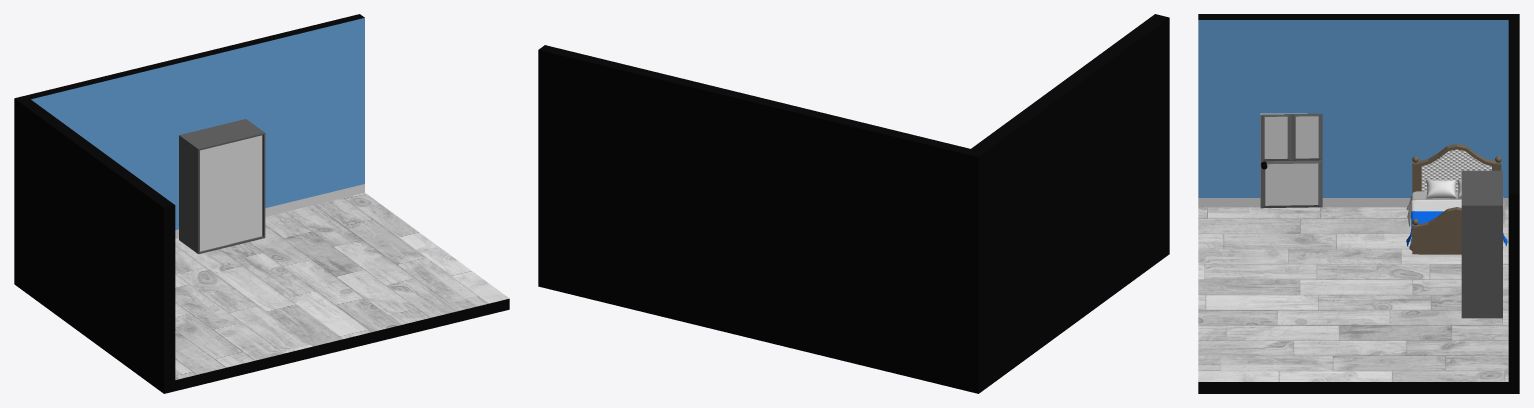
Rendered from RoomAAA.glb.
3 renders of one model, left to right at view 1: azimuth 30°, elevation 25°; view 2: azimuth 150°, elevation 25°; view 3: azimuth 270°, elevation 25°, orthographic. The views are drawn at different scales.
Visible parts, largest first — view 1: Room, Cube.001, Cube.004, Cube.002; view 2: Room; view 3: Room, Cube.001, Door, BedFrame, Cube, Duvet, BedPosts, Pillow, Sheet.
Boxes of the visible parts, x1,y1,x2,y2 form: Room: (14, 14, 509, 393); Cube.001: (179, 119, 265, 254); Cube.004: (231, 135, 262, 243); Cube.002: (200, 143, 230, 251); Room: (538, 14, 1169, 393); Room: (1198, 14, 1519, 393); Cube.001: (1461, 170, 1502, 318); Door: (1260, 113, 1322, 208); BedFrame: (1418, 144, 1495, 254); Cube: (1421, 149, 1491, 191); Duvet: (1406, 199, 1507, 246); BedPosts: (1412, 156, 1501, 254); Pillow: (1425, 180, 1456, 198); Sheet: (1406, 191, 1506, 250).
Size of the model in its own units: 4.13 by 2.12 by 3.1.
Materials: 19 (1 with a texture image).
